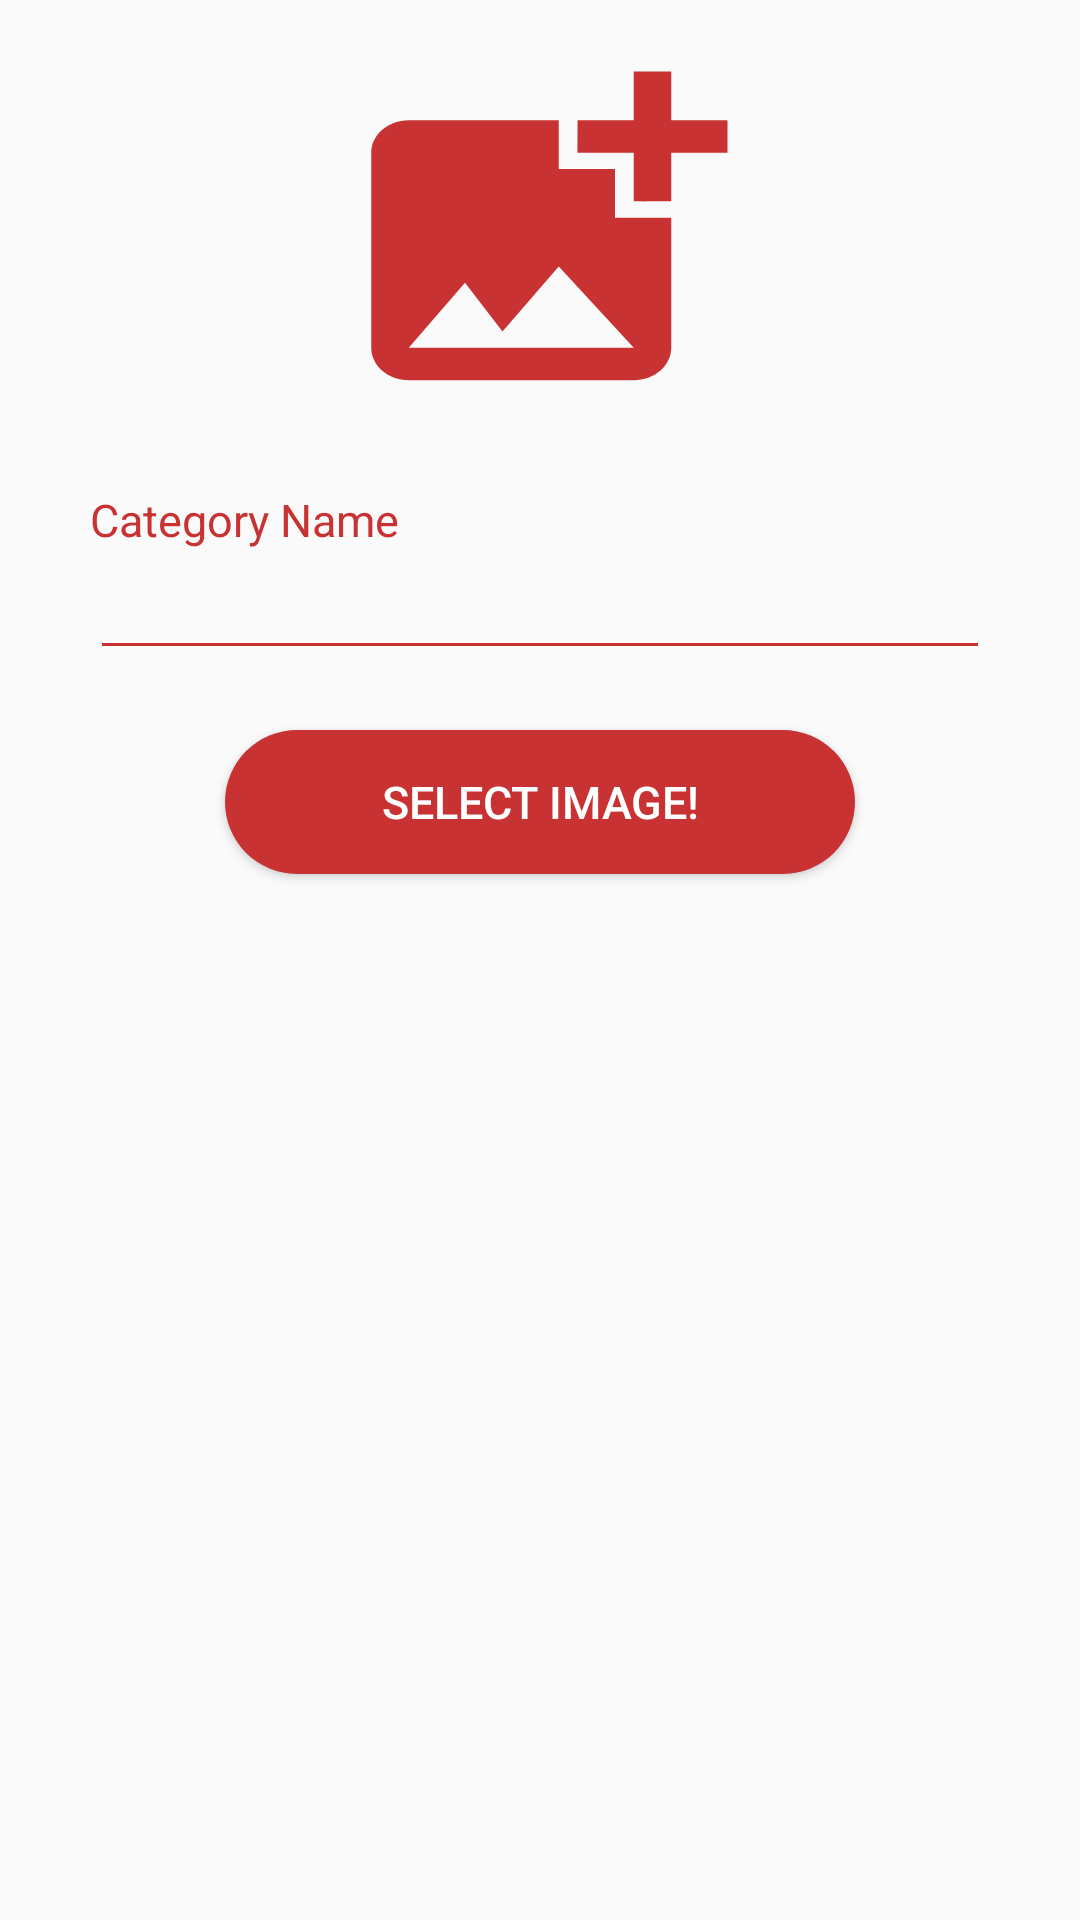

Screen size 1080 x 1920. Icon name, then its box in pixels as bbox=(x1, y1, x2, y2):
add photo alternate: bbox=(371, 71, 728, 381)
